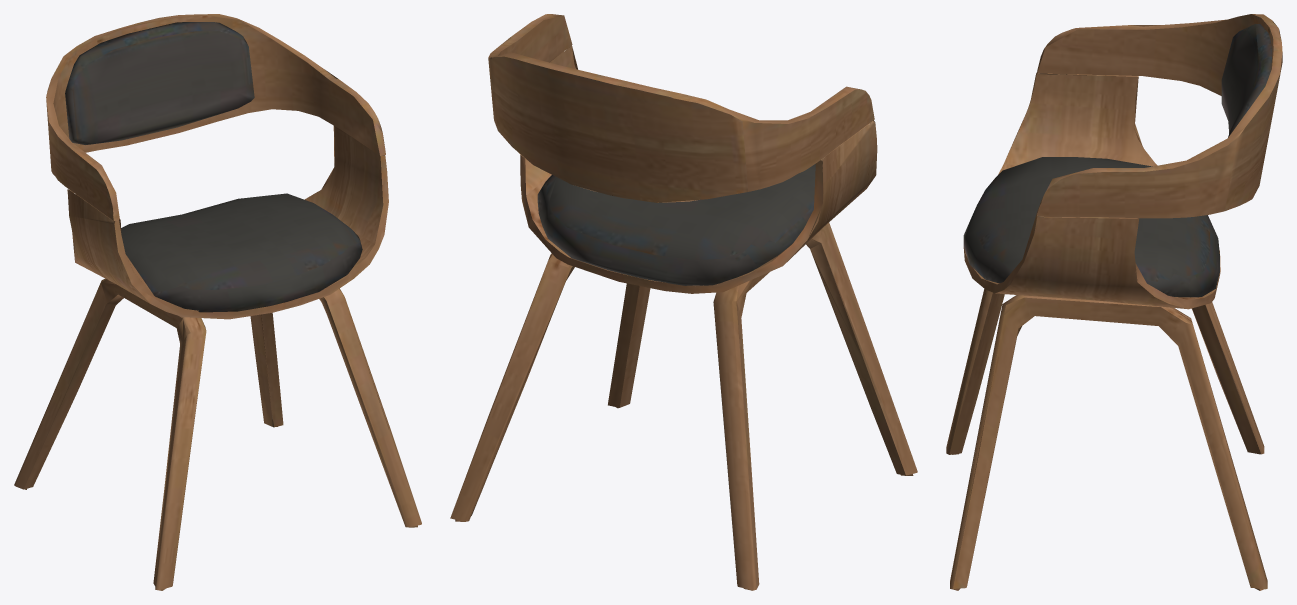
Rendered from Chair0019.obj.
The picture shows the model from 3 angles, left to right: view 1: azimuth 30°, elevation 25°; view 2: azimuth 150°, elevation 25°; view 3: azimuth 270°, elevation 25°; orthographic projection. The views are drawn at different scales.
Size of the model in its own units: 0.588 by 0.88 by 0.57.
1 material, 1 textured.
